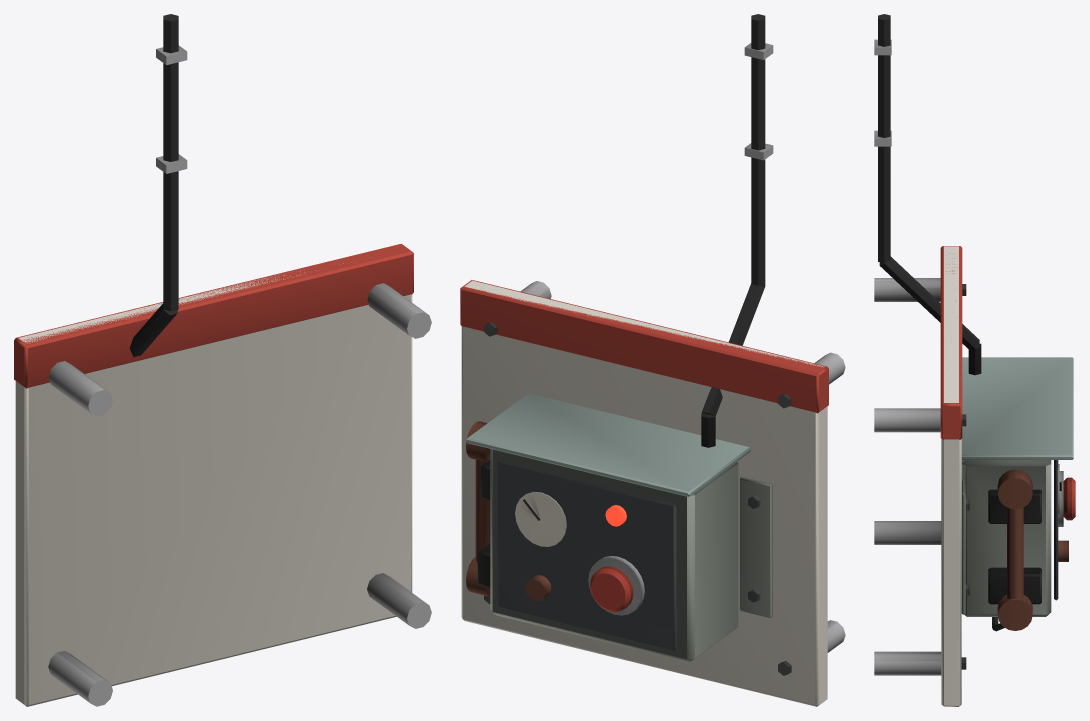
File: field_set.glb
3 renders of one model, left to right at view 1: azimuth 30°, elevation 25°; view 2: azimuth 150°, elevation 25°; view 3: azimuth 270°, elevation 25°, orthographic. The views are drawn at different scales.
Visible parts, largest first — view 1: static; view 2: static; view 3: static.
Boxes of the visible parts, x1,y1,x2,y2 form: static: [14, 14, 431, 706]; static: [460, 14, 845, 706]; static: [874, 14, 1075, 706].
Size of the model in its own units: 0.562 by 0.95 by 0.3.
